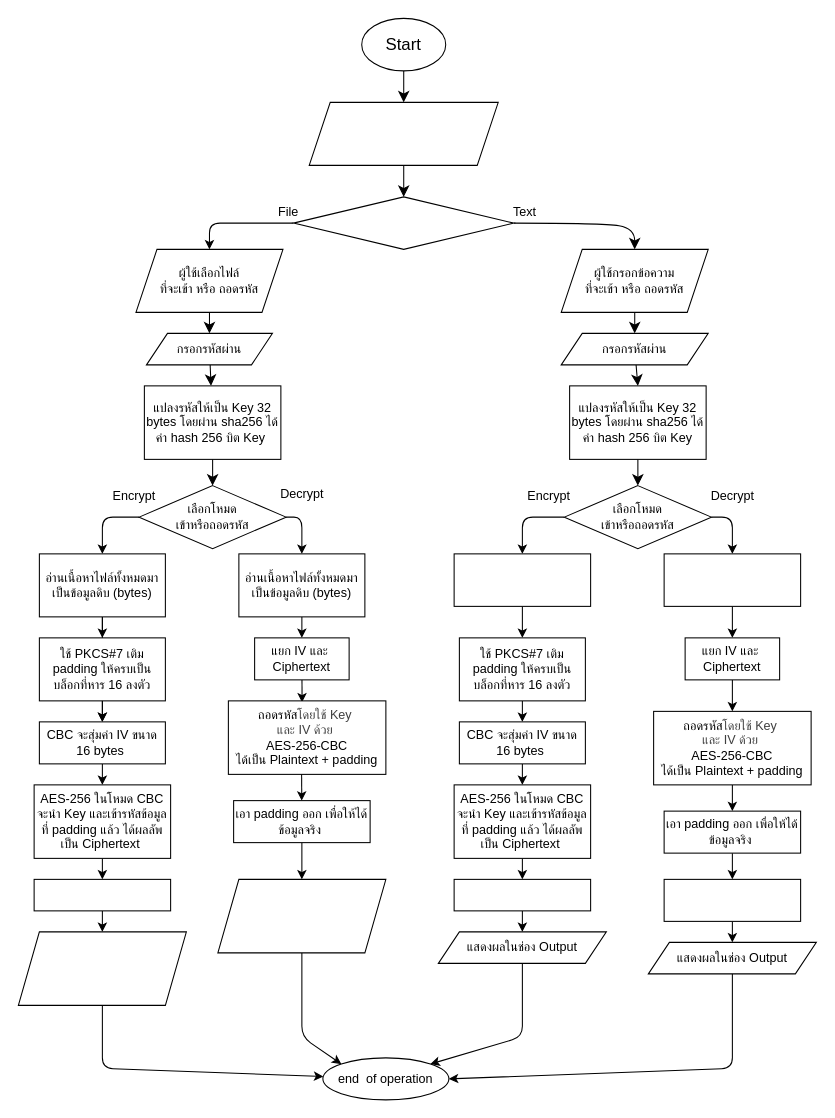
Some shapes in this 835 by 1118 pixel diagram are drawn without their labels. The shapes that lost their labels are listed below. From the top down, each one's centre as x and y in pixels, then its label:
At point 403,133: "โชว์หน้าต่างโปรแกรม Default : Text mode".
At point 403,222: "ผู้ใช้เลือกโหมด ไฟล์ หรือ ข้อความ".
At point 522,579: "อ่านข้อความมาเป็นข้อมูลดิบ bytes (UTF-8)".
At point 732,579: "อ่านข้อความมาเป็นข้อมูลดิบ bytes".
At point 102,894: "รวม IV + Ciphertext".
At point 522,894: "แปลงเป็น Hex string".
At point 732,899: "แปลง Bytes เป็น UTF-8 และแปลงเป็นข้อมูลเดิม".
At point 301,915: "save ข้อมูลที่ path ไฟล์ เดียวกันและเติม _decrypted ข้างหลังชื่อ".
At point 101,968: "save ข้อมูลที่ path ไฟล์ เดียวกันและเติม _encrypted ข้างหลังชื่อ".
